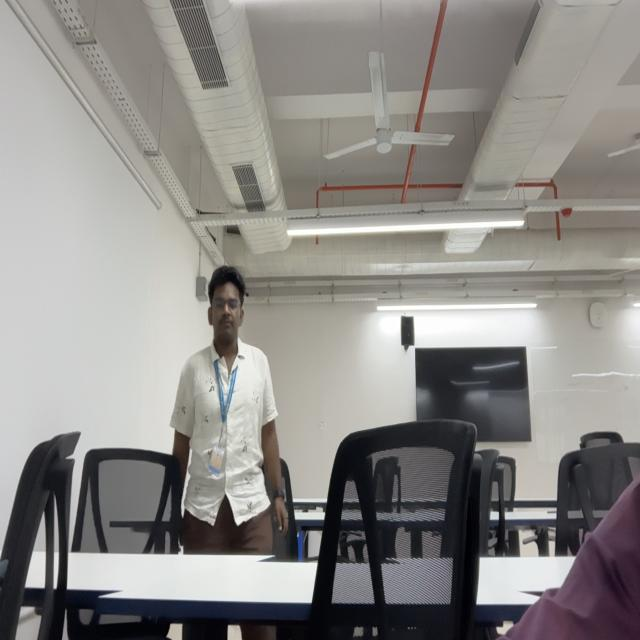sai: (203, 263, 246, 343)
